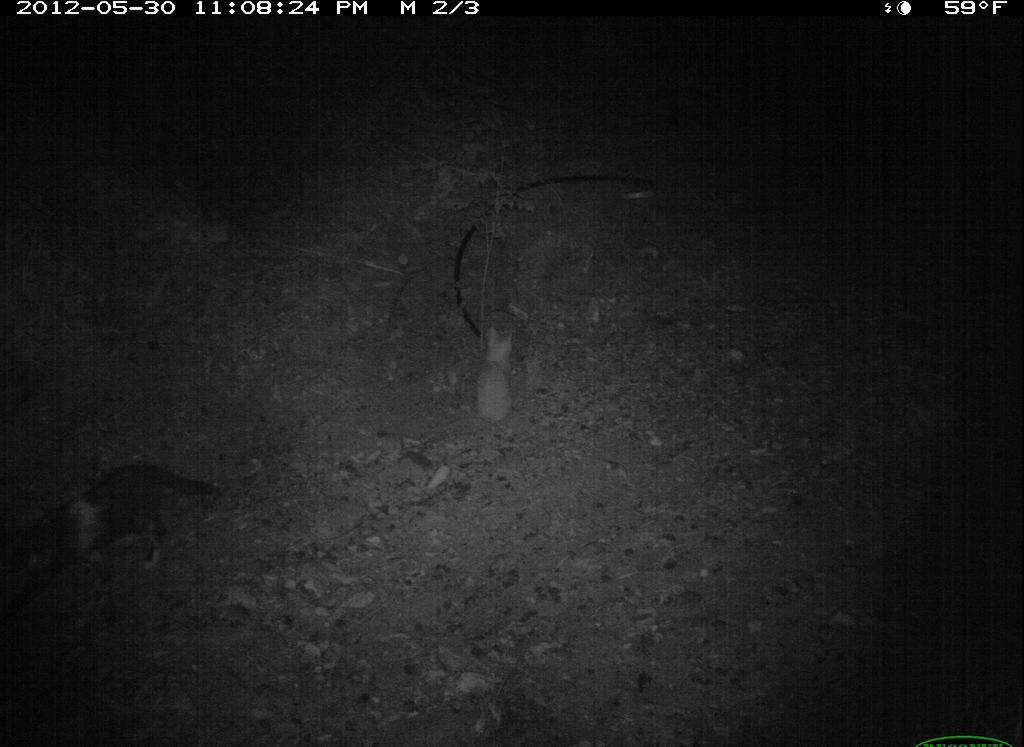cat: (6, 442, 235, 634)
